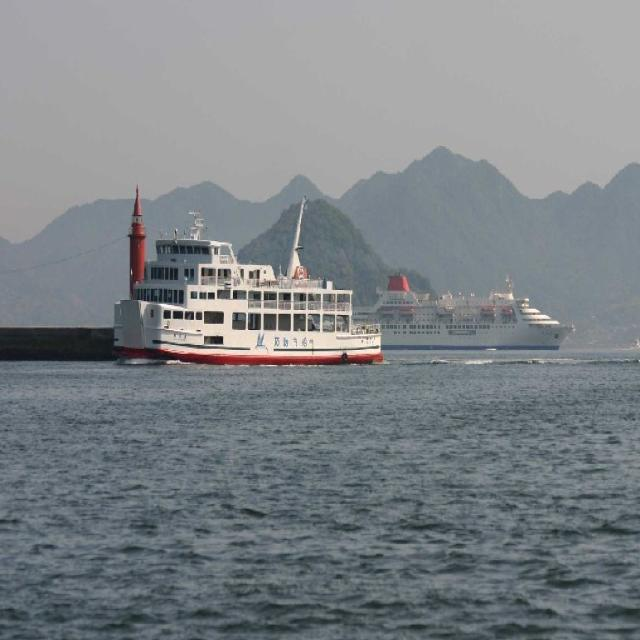passenger ship: (105, 200, 383, 379), (359, 229, 580, 359)
